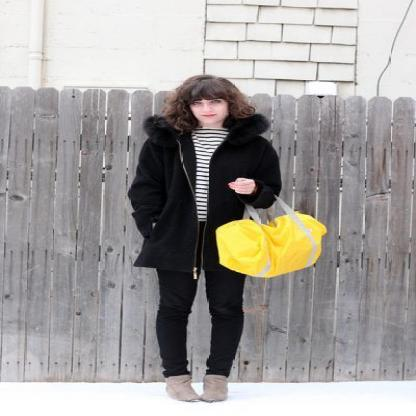bag: (216, 192, 326, 277)
jacket: (128, 112, 281, 278)
pants: (154, 263, 245, 377)
shirt: (192, 121, 228, 188)
shoe: (150, 363, 241, 402)
